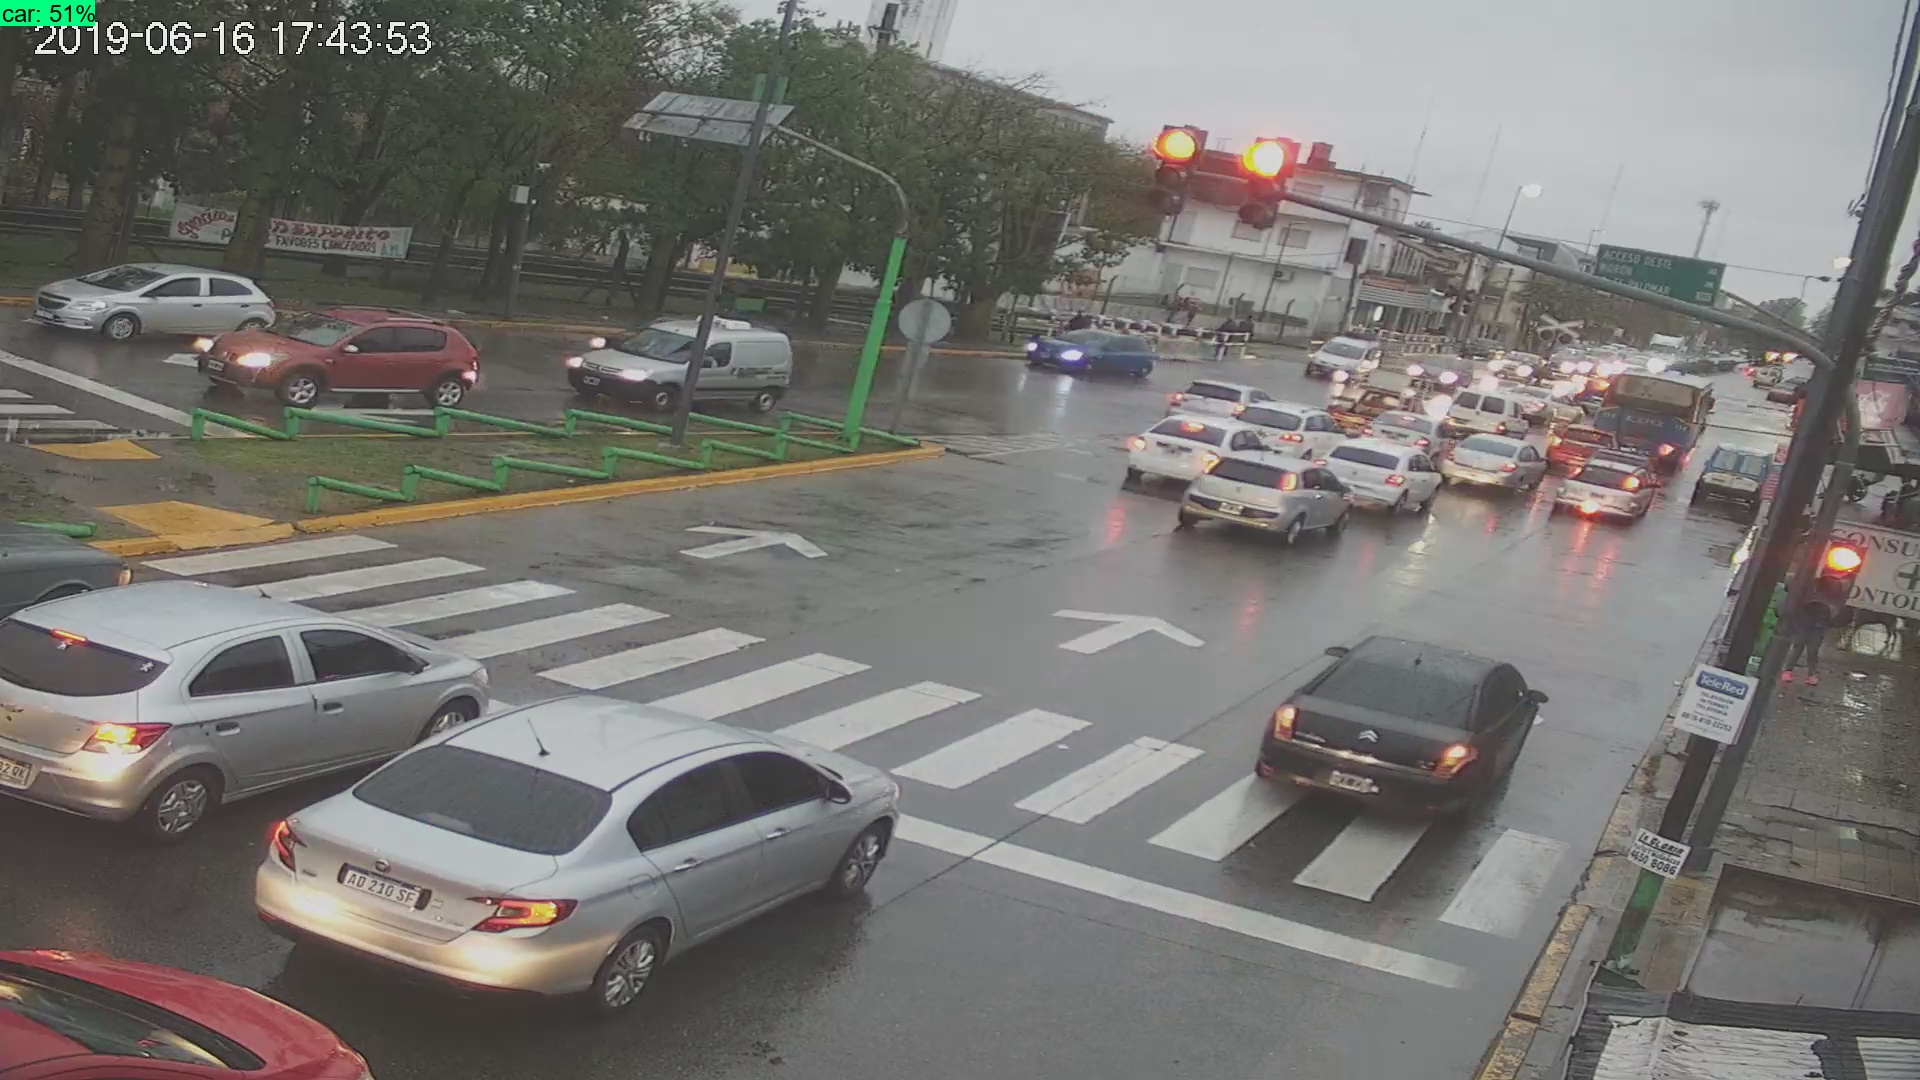car: (252, 691, 907, 1022), (3, 556, 491, 833), (4, 909, 377, 1080), (1250, 629, 1547, 823), (196, 305, 481, 414), (34, 257, 282, 353), (1179, 440, 1354, 555), (1025, 316, 1160, 388), (1548, 454, 1662, 530), (1691, 439, 1782, 512), (1445, 433, 1547, 497)
